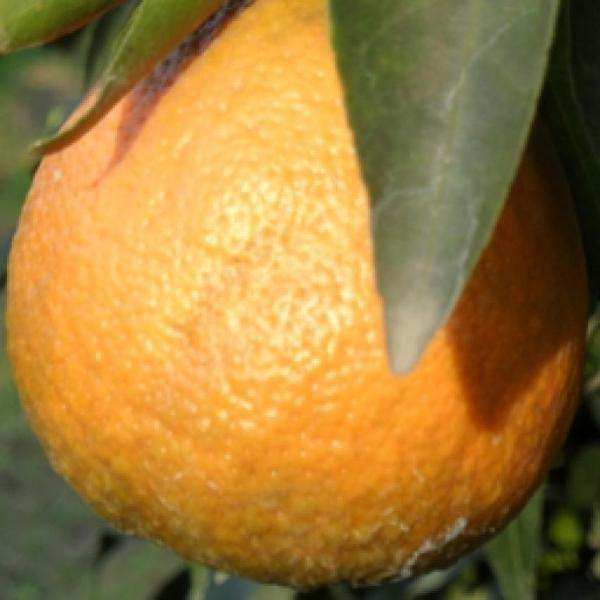Sana: (0, 0, 590, 591)
